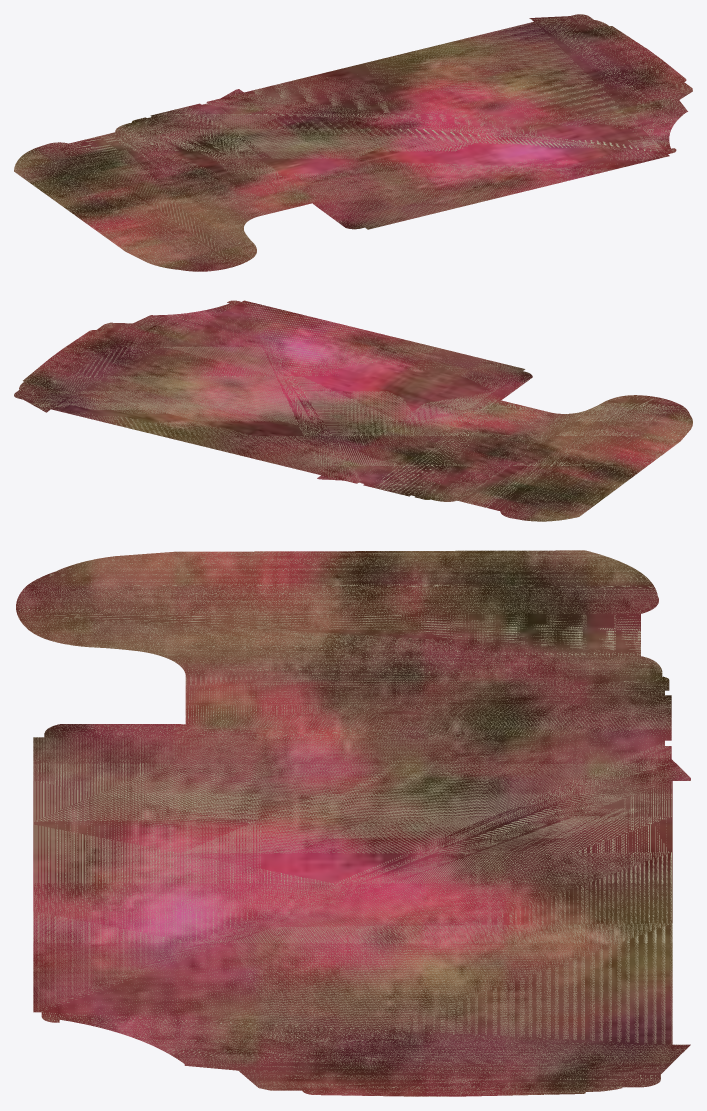
Rendered from original-65.obj.
3 renders of one model, top to bottom at view 1: azimuth 30°, elevation 25°; view 2: azimuth 150°, elevation 25°; view 3: azimuth 270°, elevation 25°, orthographic. The views are drawn at different scales.
Parts seen in each view (by area): view 1: mesh3/mesh3-geometry/material_2#mesh3-geometry; view 2: mesh3/mesh3-geometry/material_2#mesh3-geometry; view 3: mesh3/mesh3-geometry/material_2#mesh3-geometry.
Boxes of the visible parts, box(x1,y1,x2,y2) form: mesh3/mesh3-geometry/material_2#mesh3-geometry: box(14, 14, 692, 271); mesh3/mesh3-geometry/material_2#mesh3-geometry: box(14, 300, 692, 521); mesh3/mesh3-geometry/material_2#mesh3-geometry: box(16, 550, 690, 1096).
Size of the model in its own units: 1.35 by 0 by 0.7061.
